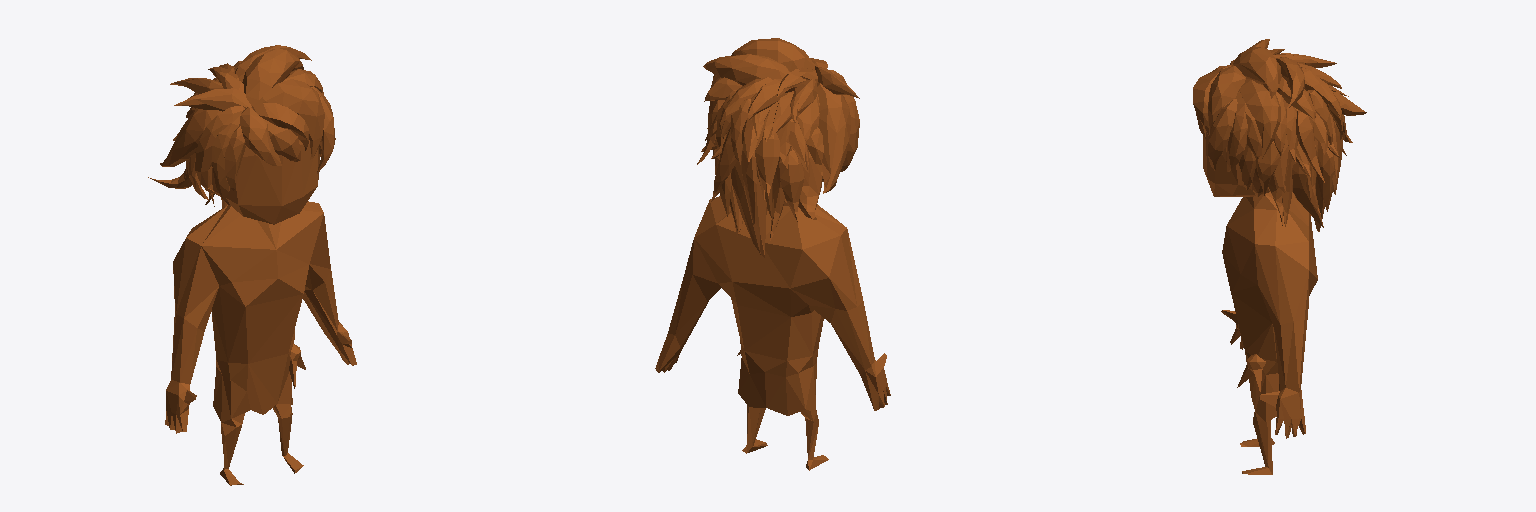
Rendered from Hugis.obj.
The picture shows the model from 3 angles: view 1: azimuth 30°, elevation 25°; view 2: azimuth 150°, elevation 25°; view 3: azimuth 270°, elevation 25°; orthographic projection.
Parts seen in each view (by area): view 1: hUGIS_Untitled; view 2: hUGIS_Untitled; view 3: hUGIS_Untitled.
Boxes of the visible parts, <box> form: hUGIS_Untitled: <box>148,45,356,485</box>; hUGIS_Untitled: <box>655,38,890,470</box>; hUGIS_Untitled: <box>1193,39,1366,474</box>.
Size of the model in its own units: 160 by 315 by 120.